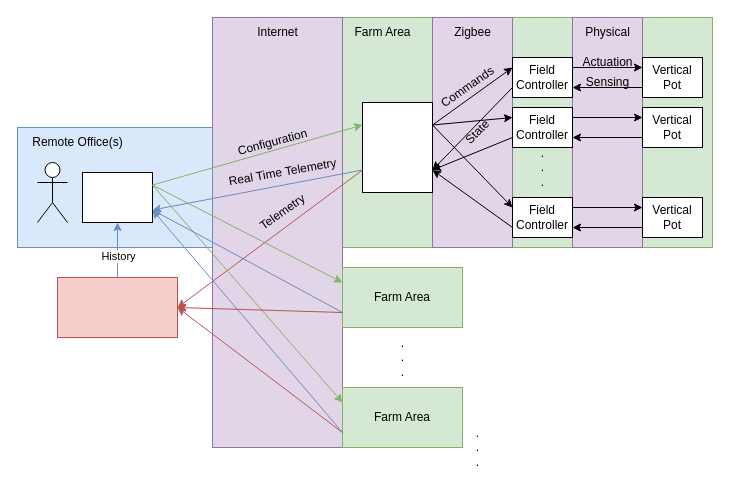
Some shapes in this 730 by 495 pixel diagram are drawn without their labels. Here are the shapes that lost their labels. From the top down, the box of each, then its label:
(362, 102, 432, 192): Global Controller
(36, 162, 68, 222): Operator(s)
(82, 172, 152, 222): SCADA frontend(s)
(56, 276, 178, 338): Cloud / Remote Database
